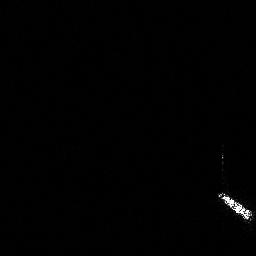ship: (213, 188, 256, 224)
